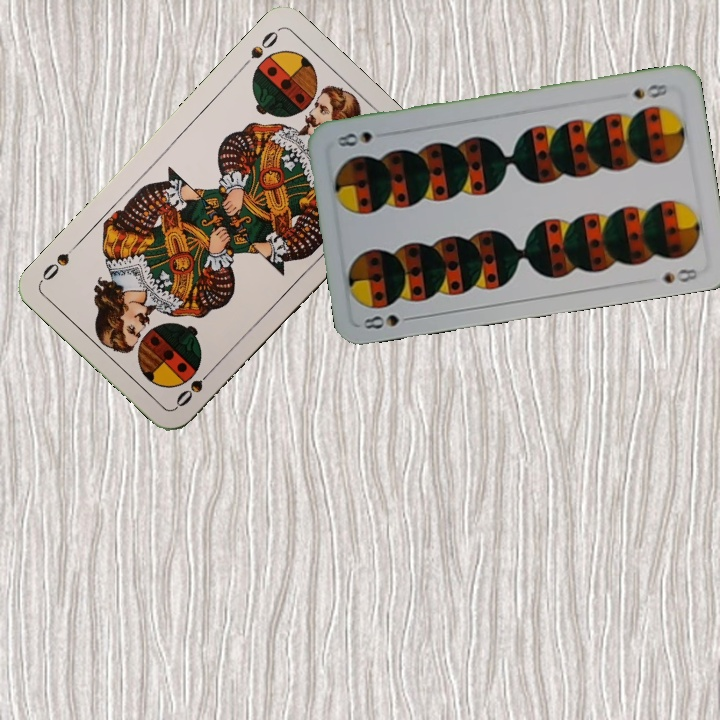S8: (359, 310, 418, 332), (628, 80, 671, 102)
SO: (171, 363, 217, 410), (246, 26, 281, 62)
